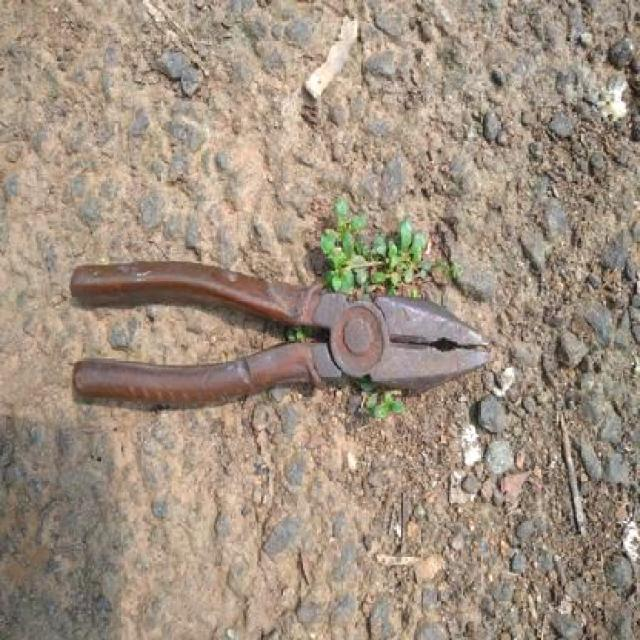pliers: (70, 260, 496, 408)
